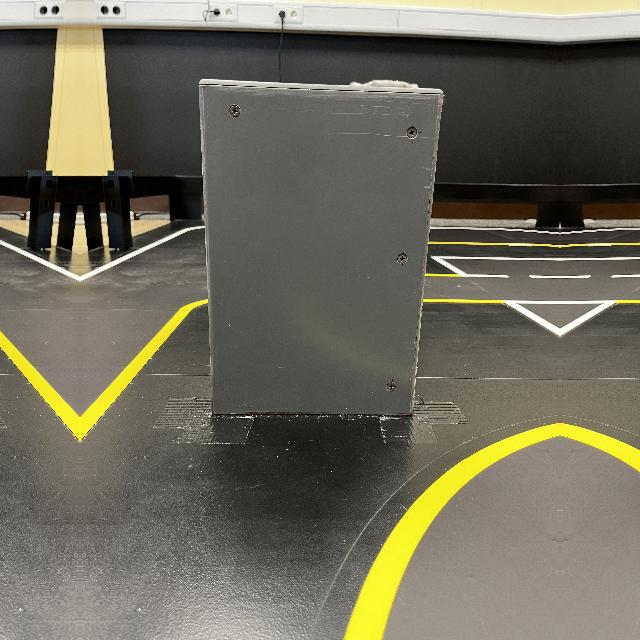obstacle: (193, 83, 447, 423)
